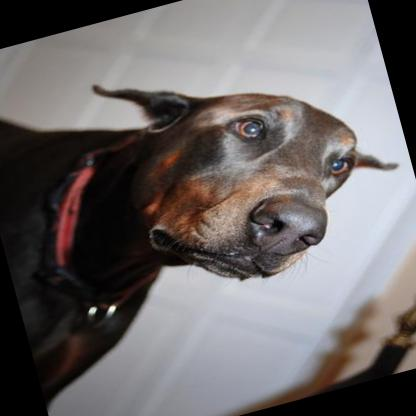Doberman: (0, 4, 416, 413)
